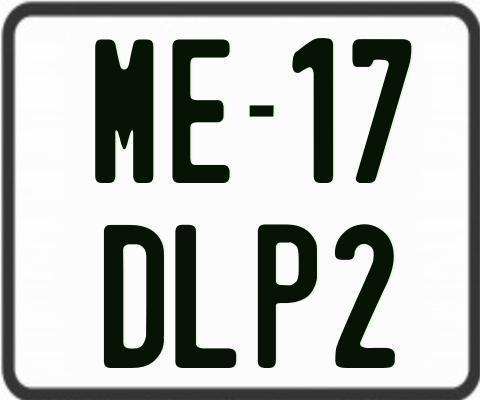1: (290, 38, 335, 189)
2: (335, 221, 396, 368)
7: (350, 39, 412, 189)
D: (102, 224, 168, 369)
E: (169, 37, 231, 186)
L: (172, 223, 233, 371)
M: (92, 37, 154, 181)
P: (258, 223, 323, 371)
